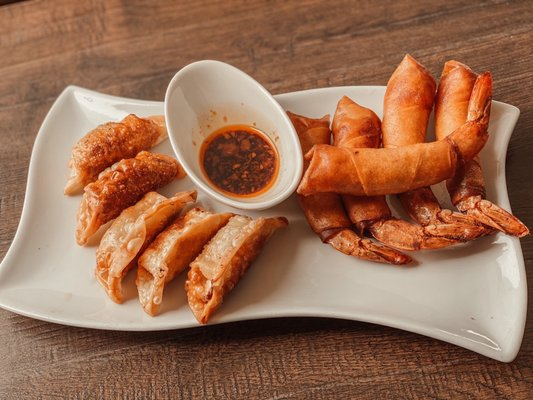soup: (294, 55, 531, 265)
sushi: (164, 58, 304, 214)
